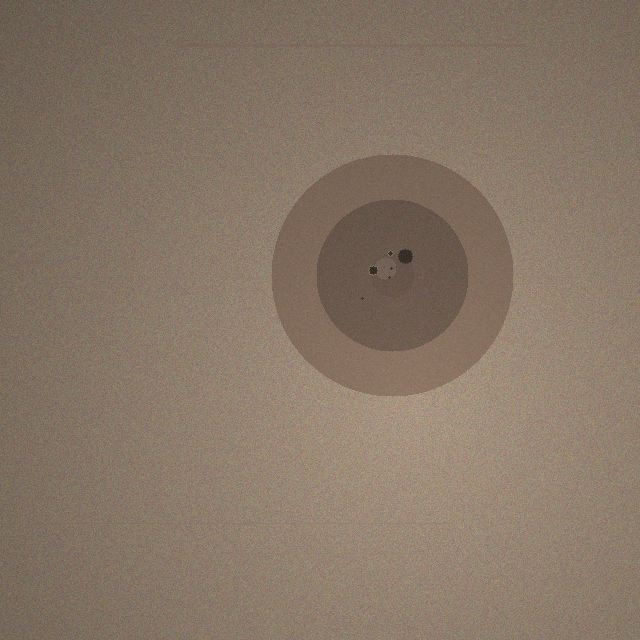shrinkage: (271, 154, 513, 396)
